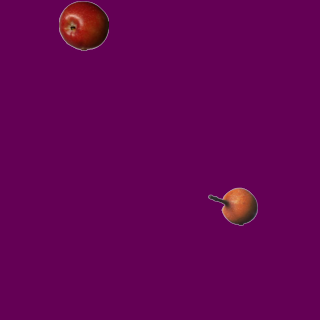Apple Braeburn: (58, 0, 108, 50)
Granadilla: (207, 181, 257, 231)
